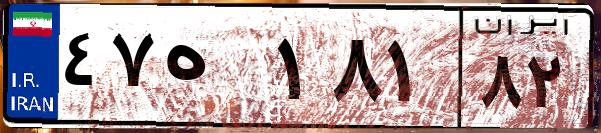1: (270, 28, 330, 110), (385, 28, 445, 110)
2: (525, 38, 570, 115)
4: (57, 26, 110, 100)
7: (110, 28, 158, 98)
8: (330, 28, 385, 110), (475, 38, 525, 113)
ه: (158, 20, 270, 120)
